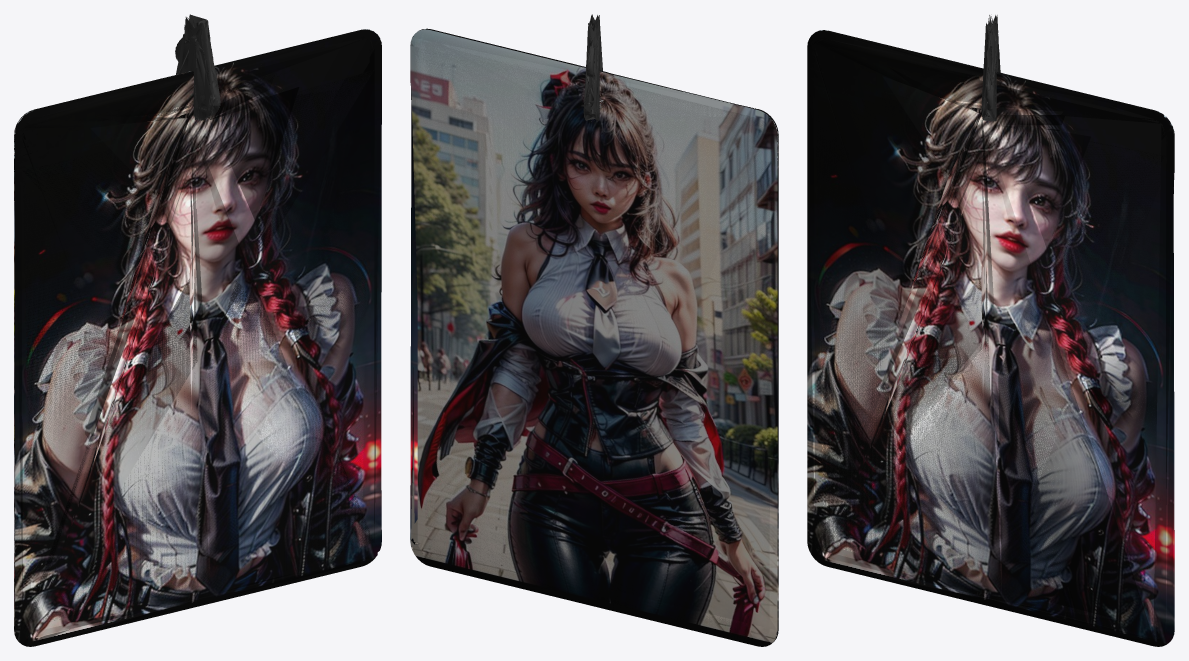
The picture shows the model from 3 angles, left to right: view 1: azimuth 30°, elevation 25°; view 2: azimuth 150°, elevation 25°; view 3: azimuth 330°, elevation 25°; orthographic projection.
Visible parts, largest first — view 1: card, clamp; view 2: card, clamp; view 3: card, clamp.
Boxes of the visible parts, x1,y1,x2,y2 form: card: [14, 29, 381, 646]; clamp: [175, 14, 220, 120]; card: [410, 28, 778, 646]; clamp: [583, 14, 602, 121]; card: [807, 30, 1174, 646]; clamp: [981, 15, 1000, 121].
Size of the model in its own units: 0.7164 by 1.1 by 0.0903.
Materials: 2 (1 with a texture image).
